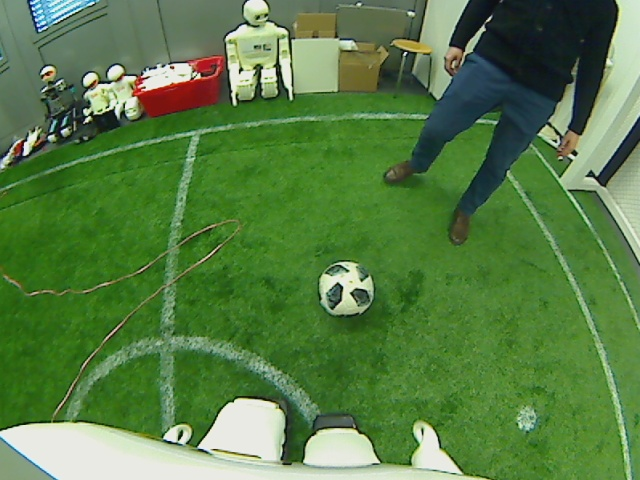ball: (316, 261, 375, 316)
